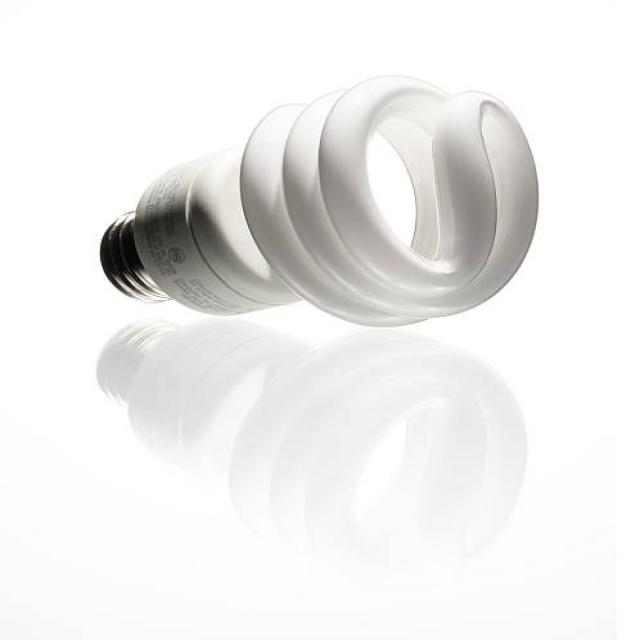electronic: (99, 72, 540, 327), (95, 314, 528, 571)
